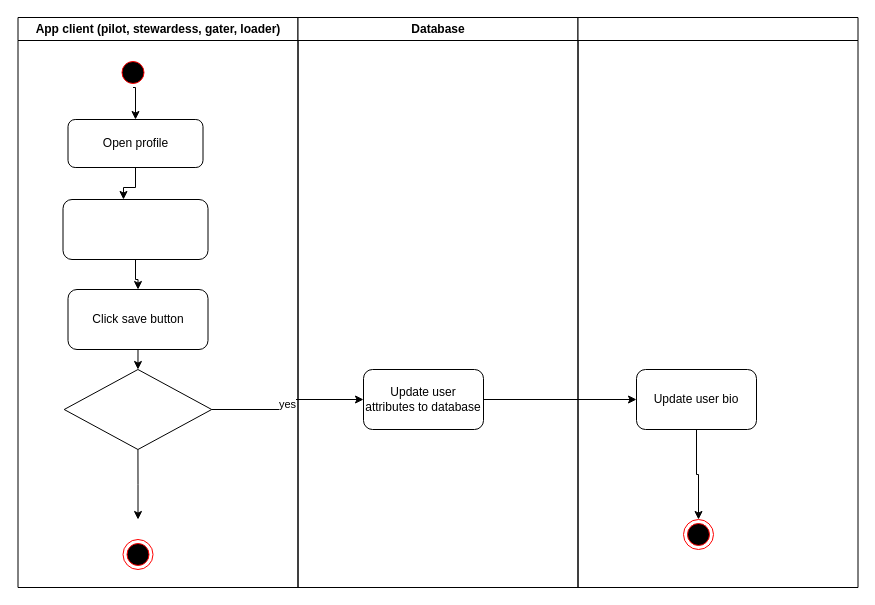
This 875x605 diagram has some shape labels left out. Each missing label, with the box of its shape:
Are you sure you want to save changes?: (63, 368, 212, 450)
Flight dispatcher: (577, 16, 858, 588)
Update picture/ bio/ trainings: (62, 198, 208, 260)
